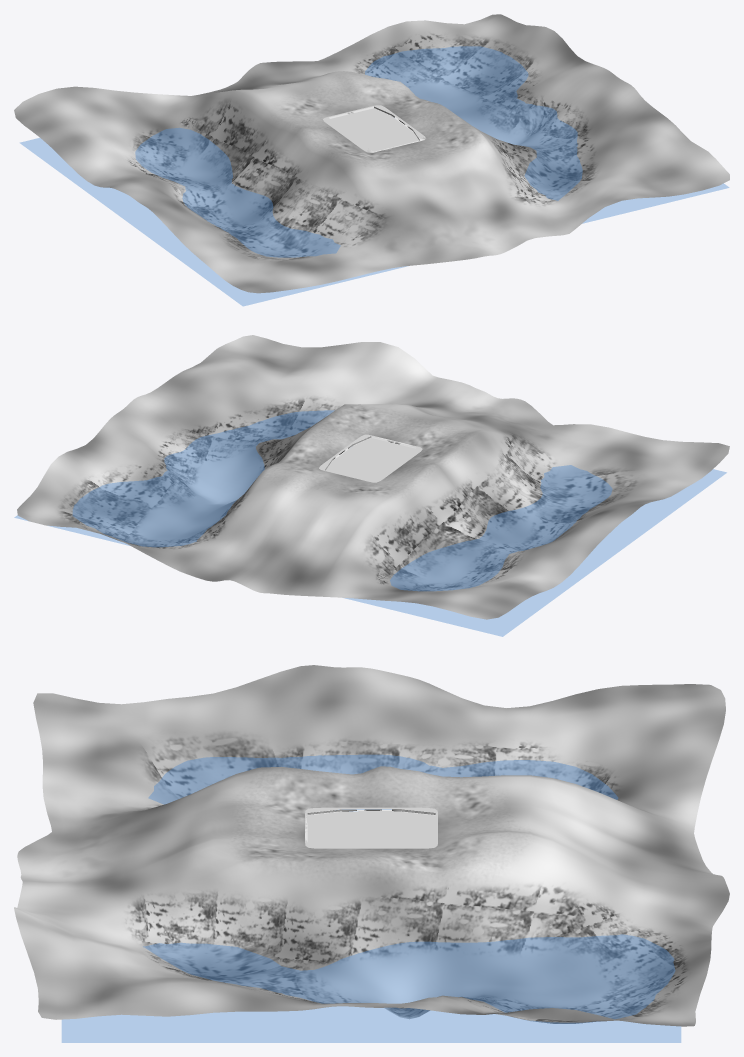
Rendered from arena2.fbx.
The picture shows the model from 3 angles, top to bottom: view 1: azimuth 30°, elevation 25°; view 2: azimuth 150°, elevation 25°; view 3: azimuth 270°, elevation 25°; orthographic projection. The views are drawn at different scales.
Visible parts, largest first — view 1: arena_outside, water_inside, arena2_roof_door_left, arena2_roof_door_left.001, og_outside; view 2: arena_outside, water_inside, arena2_roof_door_left.001, arena2_roof_door_left, og_outside; view 3: arena_outside, water_inside, arena2_roof_door_left, arena2_roof_door_left.001, og_outside.
Boxes of the visible parts, x1,y1,x2,y2 form: arena_outside: [14, 14, 729, 293]; water_inside: [20, 46, 728, 306]; arena2_roof_door_left: [330, 108, 401, 137]; arena2_roof_door_left.001: [349, 124, 418, 151]; og_outside: [323, 105, 425, 152]; arena_outside: [17, 335, 729, 619]; water_inside: [14, 410, 726, 636]; arena2_roof_door_left.001: [343, 438, 414, 466]; arena2_roof_door_left: [326, 454, 396, 480]; og_outside: [319, 434, 422, 482]; arena_outside: [14, 665, 729, 1026]; water_inside: [62, 755, 680, 1042]; arena2_roof_door_left: [371, 812, 435, 846]; arena2_roof_door_left.001: [307, 812, 371, 846]; og_outside: [305, 807, 437, 848].
Bounding box in the file's own units: 206228 × 31378 × 186963.
